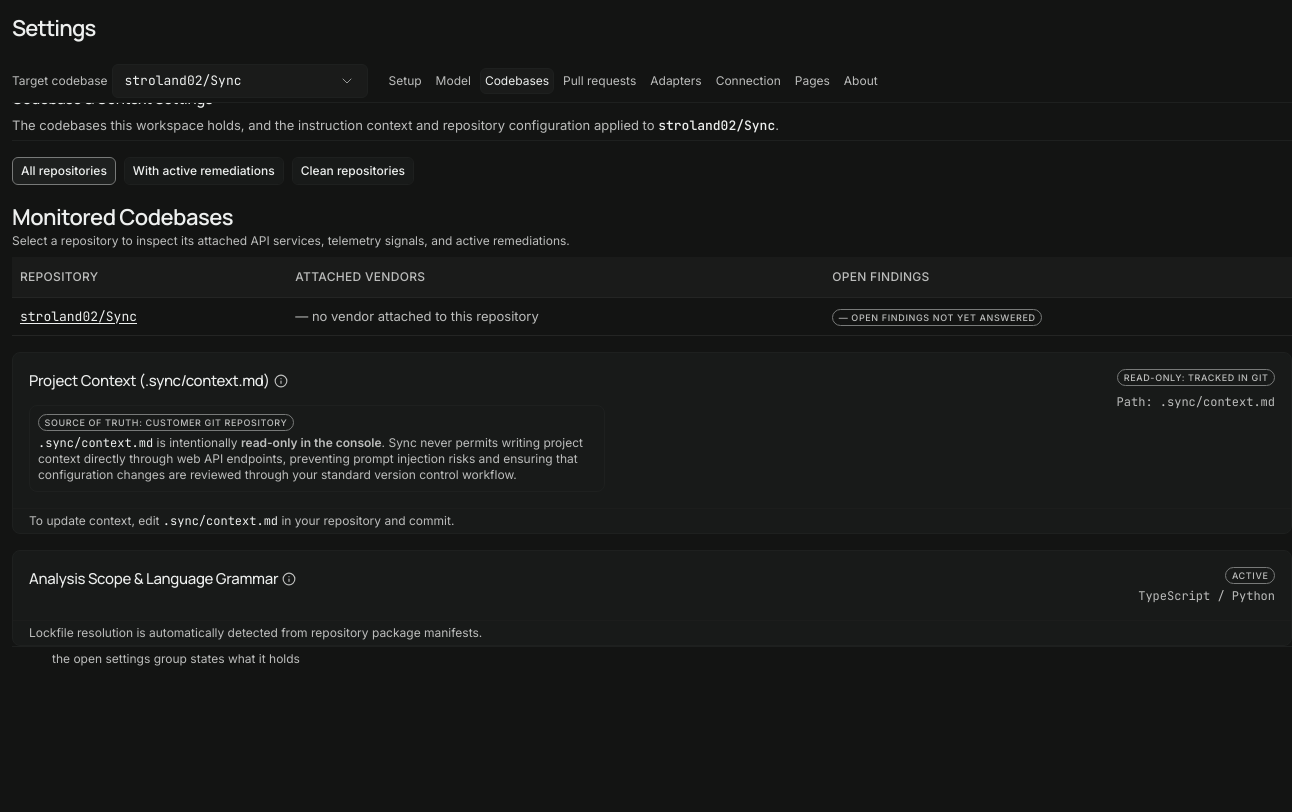
Test case: SettingsPage sub-navigation and setting cards › renders Pull requests settings with merge policy, method, branch cards and refusal notice
The image size is (1292, 812).
Click the button "Pull requests": (600, 81) [558,68,641,94]
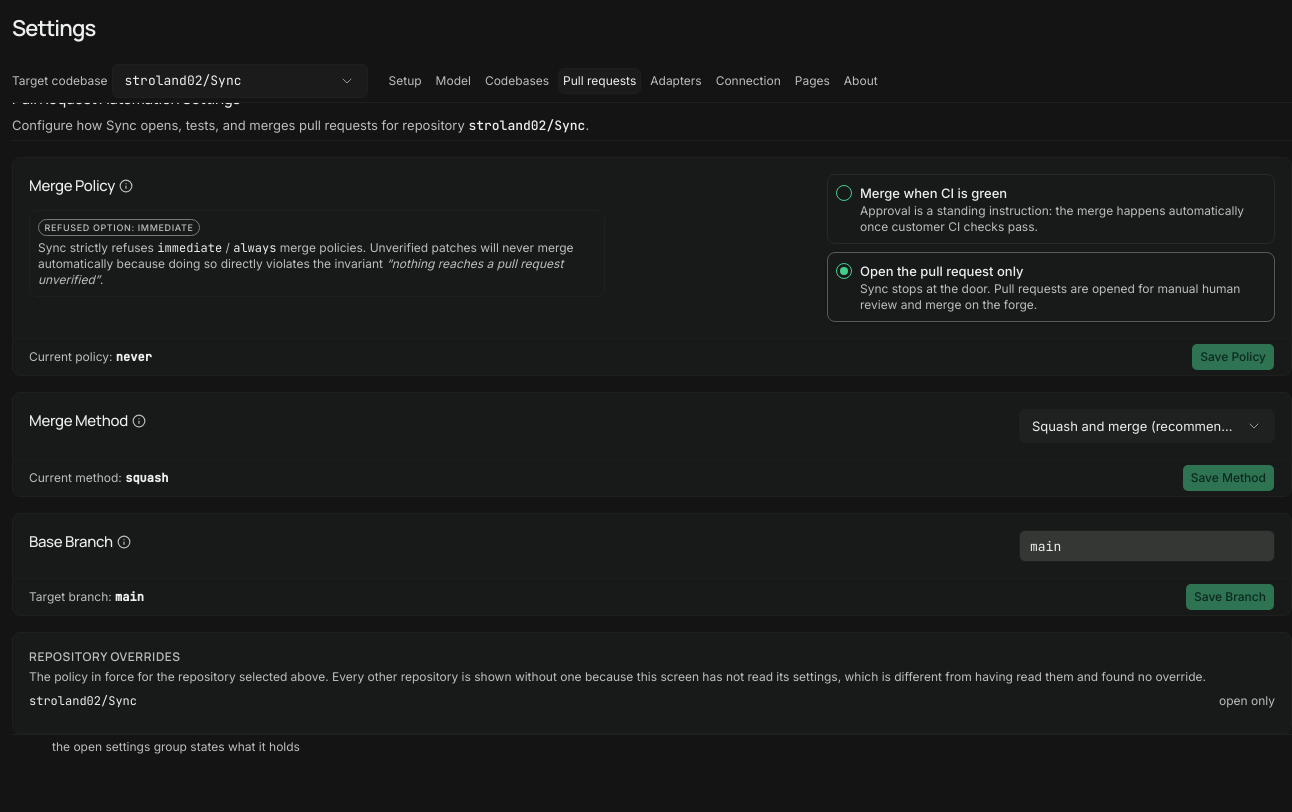
Now the heading "Merge Policy" is shown, box [29,174,115,198]
Now the heading "Merge Method" is shown, box [29,409,128,433]
Now the heading "Base Branch" is shown, box [29,530,113,554]
